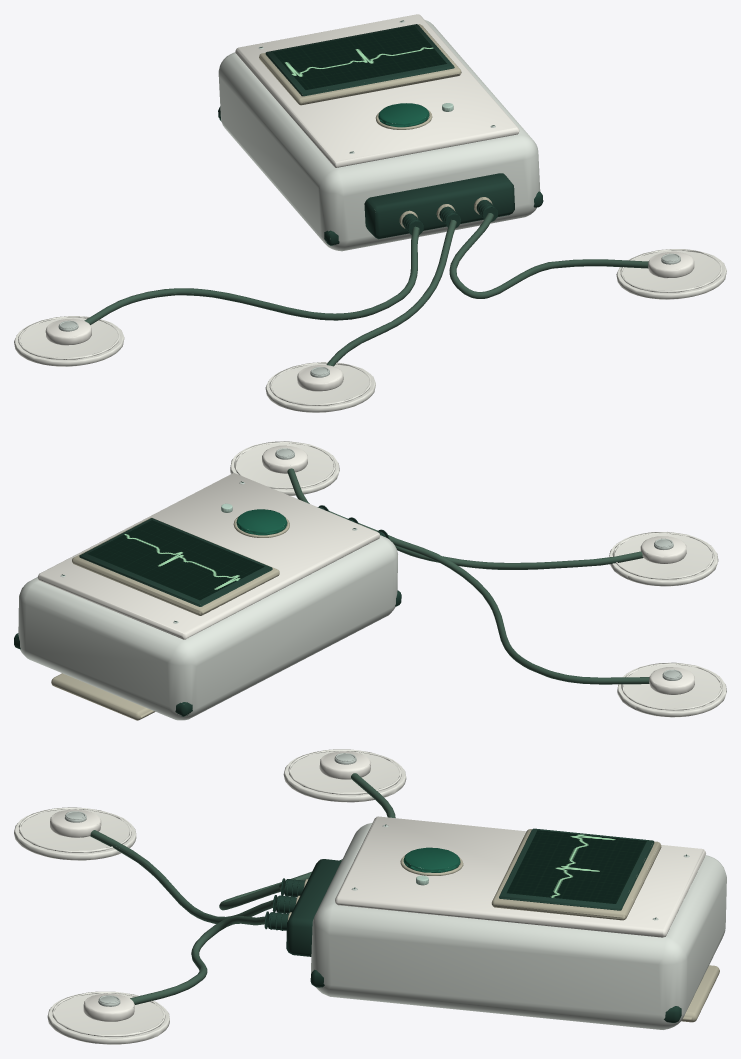
The model's file is service-holter-cardiaco-v5-lod.glb.
3 views of the same model, one above another, from view 1: azimuth 30°, elevation 25°; view 2: azimuth 150°, elevation 25°; view 3: azimuth 270°, elevation 25° (orthographic). The views are drawn at different scales.
Visible parts, largest first — view 1: Holter_Cardiaco_White_Case.001, Holter_Cardiaco_Top_Plane.001, Holter_Cardiaco_Electrode_0_Adhesive_Pad.001, Holter_Cardiaco_Seam.001, Holter_Cardiaco_Lead_0.001, Holter_v4_Display_Rolling_Graph.001, Holter_v4_Action_Button_Bezel.001, Holter_Cardiaco_Action_Button.001; view 2: Holter_Cardiaco_White_Case.001, Holter_Cardiaco_Top_Plane.001, Holter_Cardiaco_Electrode_0_Adhesive_Pad.001, Holter_v4_Display_Rolling_Graph.001, Holter_Cardiaco_Lead_0.001, Holter_v4_Action_Button_Bezel.001, Holter_Cardiaco_Seam.001, Holter_Cardiaco_Action_Button.001, Holter_Cardiaco_Electrode_0_Conductive_Core.001; view 3: Holter_Cardiaco_White_Case.001, Holter_Cardiaco_Top_Plane.001, Holter_Cardiaco_Electrode_0_Adhesive_Pad.001, Holter_v4_Display_Rolling_Graph.001, Holter_Cardiaco_Seam.001, Holter_Cardiaco_Lead_0.001, Holter_v4_Action_Button_Bezel.001, Holter_Cardiaco_Action_Button.001, Holter_Cardiaco_Electrode_0_Conductive_Core.001.
Boxes of the visible parts, x1=… form: Holter_Cardiaco_White_Case.001: x1=218, y1=20, x2=540, y2=251; Holter_Cardiaco_Top_Plane.001: x1=45, y1=14, x2=694, y2=391; Holter_Cardiaco_Electrode_0_Adhesive_Pad.001: x1=14, y1=249, x2=726, y2=412; Holter_Cardiaco_Seam.001: x1=218, y1=20, x2=543, y2=245; Holter_Cardiaco_Lead_0.001: x1=84, y1=213, x2=648, y2=366; Holter_v4_Display_Rolling_Graph.001: x1=273, y1=26, x2=446, y2=89; Holter_v4_Action_Button_Bezel.001: x1=259, y1=24, x2=492, y2=228; Holter_Cardiaco_Action_Button.001: x1=378, y1=103, x2=429, y2=127; Holter_Cardiaco_White_Case.001: x1=18, y1=535, x2=397, y2=720; Holter_Cardiaco_Top_Plane.001: x1=37, y1=445, x2=694, y2=694; Holter_Cardiaco_Electrode_0_Adhesive_Pad.001: x1=230, y1=441, x2=726, y2=717; Holter_v4_Display_Rolling_Graph.001: x1=87, y1=520, x2=264, y2=600; Holter_Cardiaco_Lead_0.001: x1=287, y1=468, x2=649, y2=684; Holter_v4_Action_Button_Bezel.001: x1=51, y1=516, x2=289, y2=720; Holter_Cardiaco_Seam.001: x1=14, y1=481, x2=401, y2=716; Holter_Cardiaco_Action_Button.001: x1=236, y1=509, x2=287, y2=535; Holter_Cardiaco_Electrode_0_Conductive_Core.001: x1=60, y1=448, x2=682, y2=680; Holter_Cardiaco_White_Case.001: x1=311, y1=822, x2=726, y2=1029; Holter_Cardiaco_Top_Plane.001: x1=50, y1=751, x2=705, y2=1021; Holter_Cardiaco_Electrode_0_Adhesive_Pad.001: x1=14, y1=749, x2=406, y2=1044; Holter_v4_Display_Rolling_Graph.001: x1=507, y1=830, x2=646, y2=903; Holter_Cardiaco_Seam.001: x1=264, y1=824, x2=686, y2=1022; Holter_Cardiaco_Lead_0.001: x1=90, y1=773, x2=395, y2=1004; Holter_v4_Action_Button_Bezel.001: x1=287, y1=829, x2=719, y2=1022; Holter_Cardiaco_Action_Button.001: x1=403, y1=847, x2=460, y2=872; Holter_Cardiaco_Electrode_0_Conductive_Core.001: x1=64, y1=753, x2=689, y2=1006.
Size of what is drawn, in the model's own units: 3.47 by 0.6675 by 3.26.
10 materials, 1 textured.
